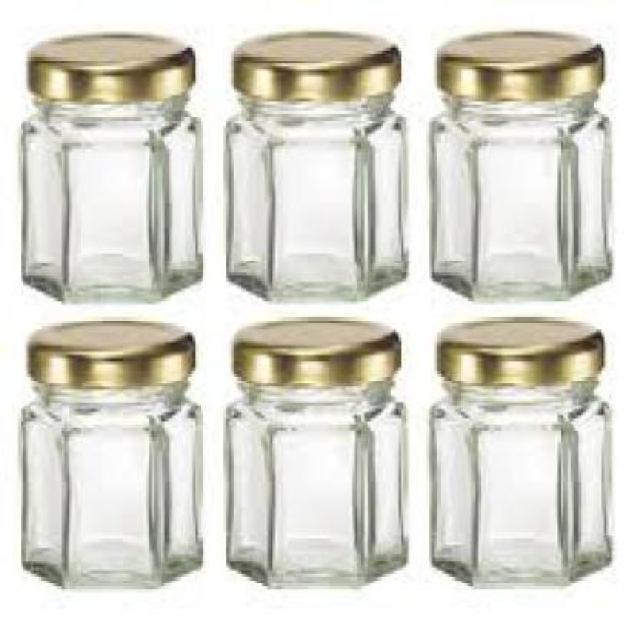kaca: (222, 92, 409, 298), (15, 380, 200, 583), (18, 96, 200, 302), (426, 92, 609, 296), (429, 380, 609, 586), (223, 383, 406, 583)
